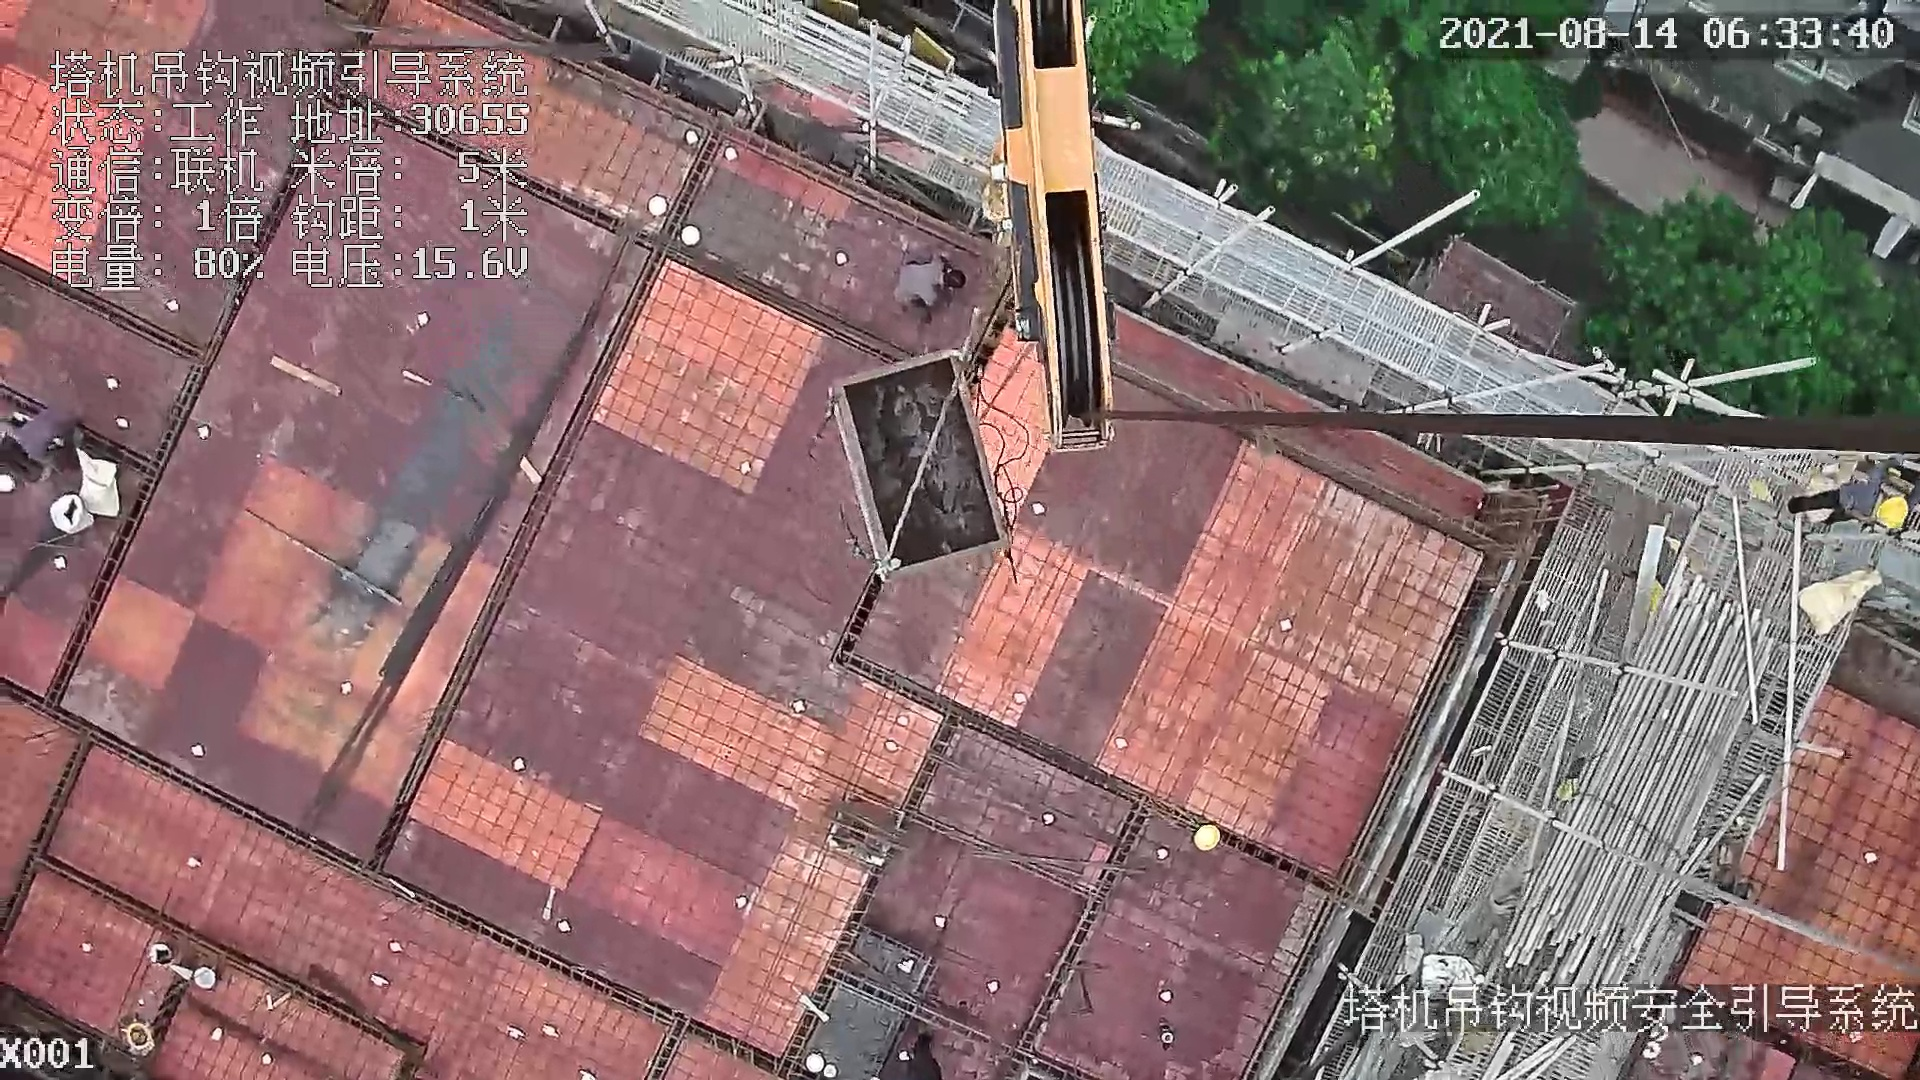helmet: (1191, 818, 1228, 858), (1877, 495, 1914, 535)
hook: (965, 1, 1120, 449)
hopper: (828, 347, 1018, 587)
person: (1787, 444, 1918, 545), (891, 249, 972, 332), (1, 406, 94, 474)
scaffold: (1533, 544, 1778, 992)
